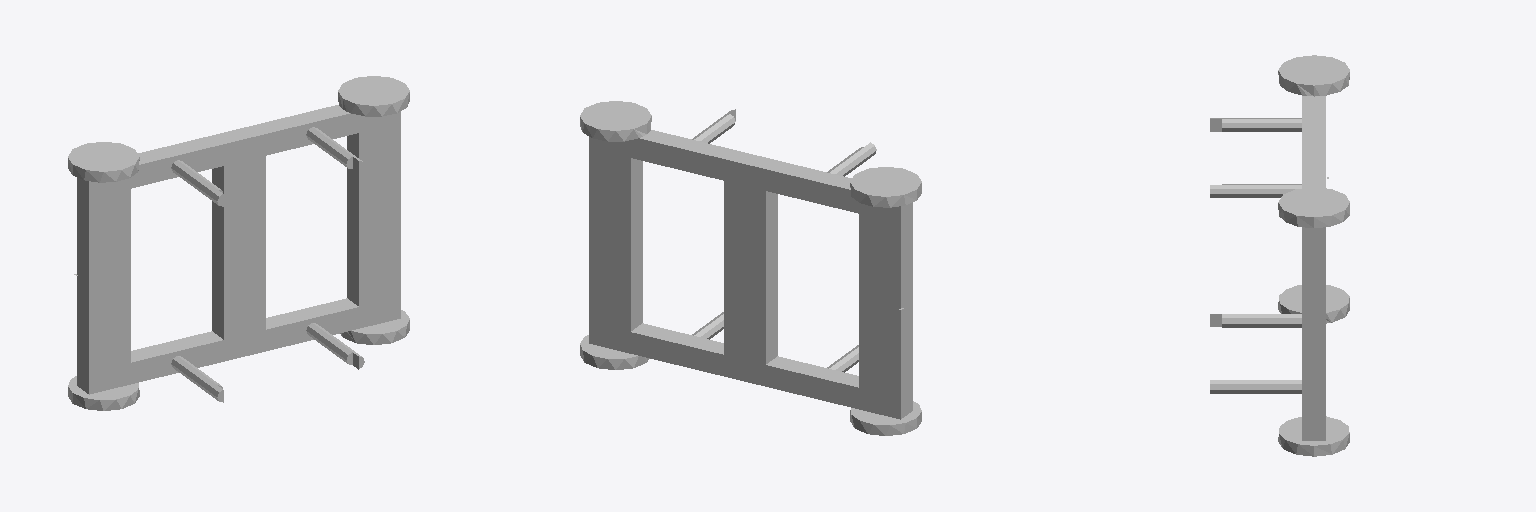
Rendered from cardesign1.obj.
3 views of the same model, side by side, from view 1: azimuth 30°, elevation 25°; view 2: azimuth 150°, elevation 25°; view 3: azimuth 270°, elevation 25° (orthographic).
Parts seen in each view (by area): view 1: cardesign1; view 2: cardesign1; view 3: cardesign1.
Boxes of the visible parts, box(x1,y1,x2,y2) form: cardesign1: box(68, 76, 409, 410); cardesign1: box(580, 101, 921, 435); cardesign1: box(1210, 55, 1349, 456).
Bounding box in the file's own units: 160 × 110 × 58.5.